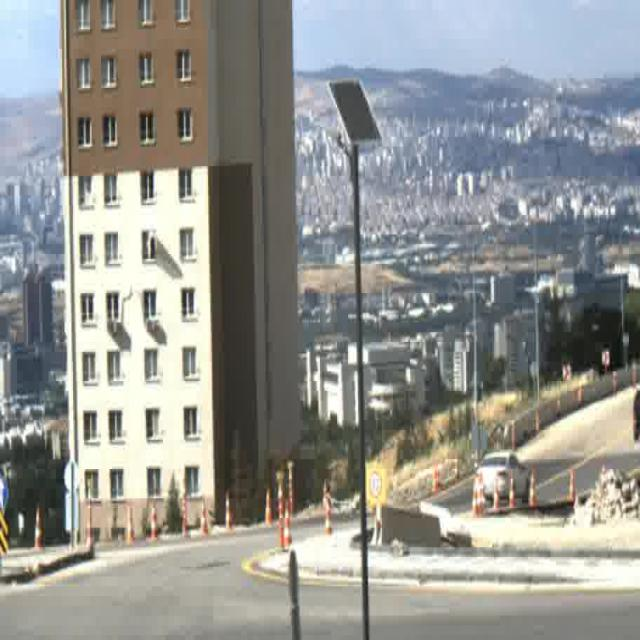Car: (477, 451, 532, 504), (629, 390, 640, 444)
